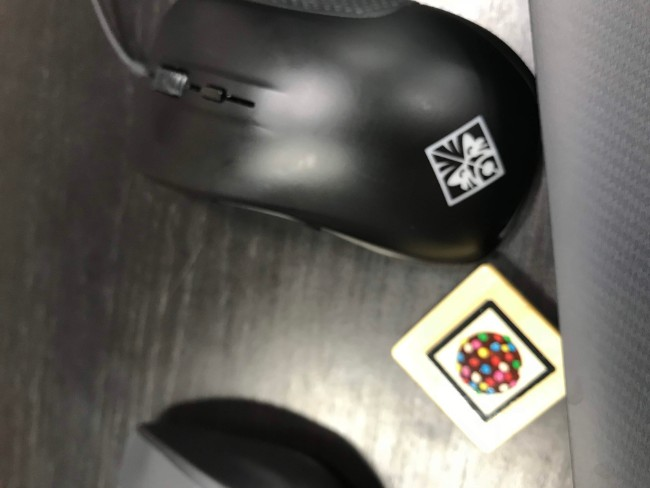cookie: (391, 263, 574, 447)
